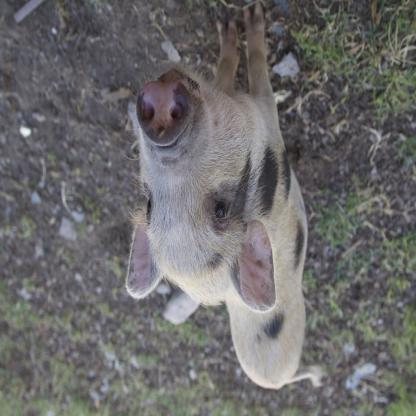boar: (126, 0, 328, 392), (124, 3, 324, 395)
